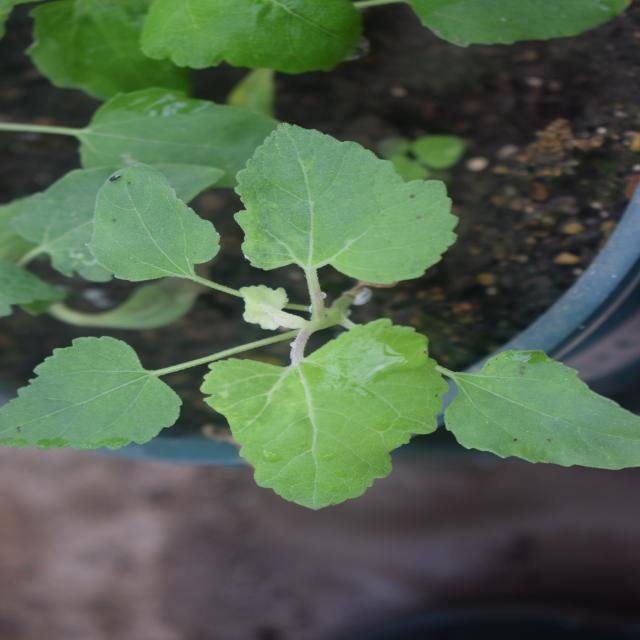cocklebur: (142, 11, 496, 582)
